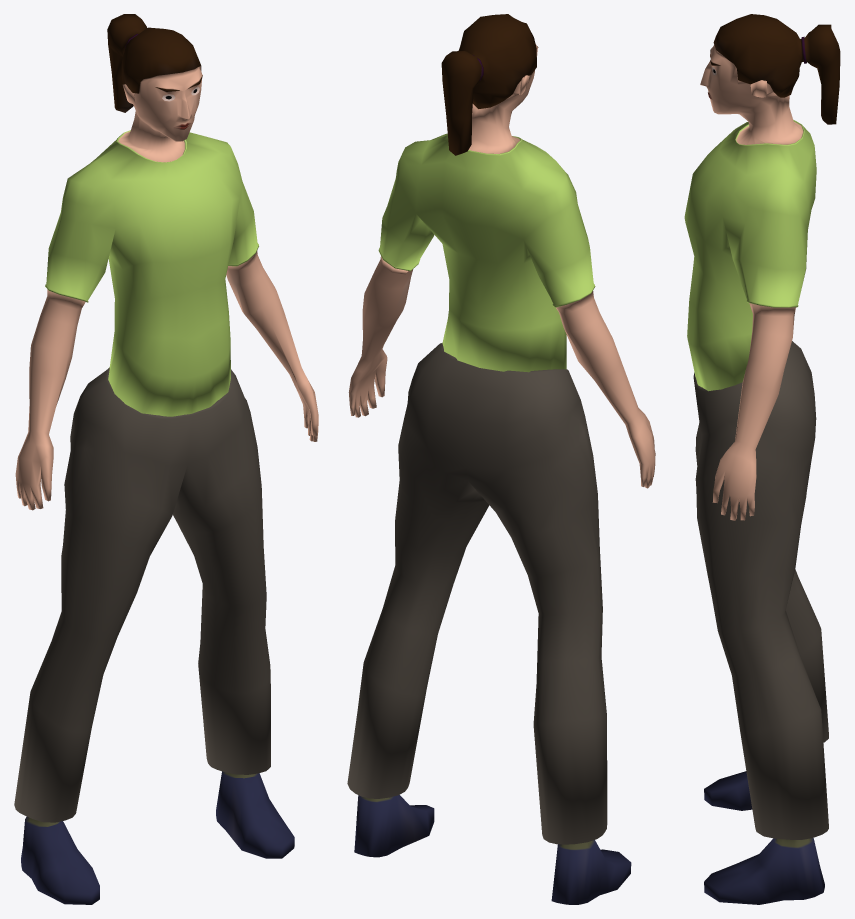
File: Female1.fbx
3 renders of one model, left to right at view 1: azimuth 30°, elevation 25°; view 2: azimuth 150°, elevation 25°; view 3: azimuth 270°, elevation 25°, orthographic.
Parts seen in each view (by area): view 1: Cube; view 2: Cube; view 3: Cube.
Boxes of the visible parts, box(x1,y1,x2,y2) form: Cube: box(14, 14, 318, 904); Cube: box(347, 14, 655, 904); Cube: box(684, 14, 840, 904).
Size of the model in its own units: 59.64 by 161 by 27.39.
